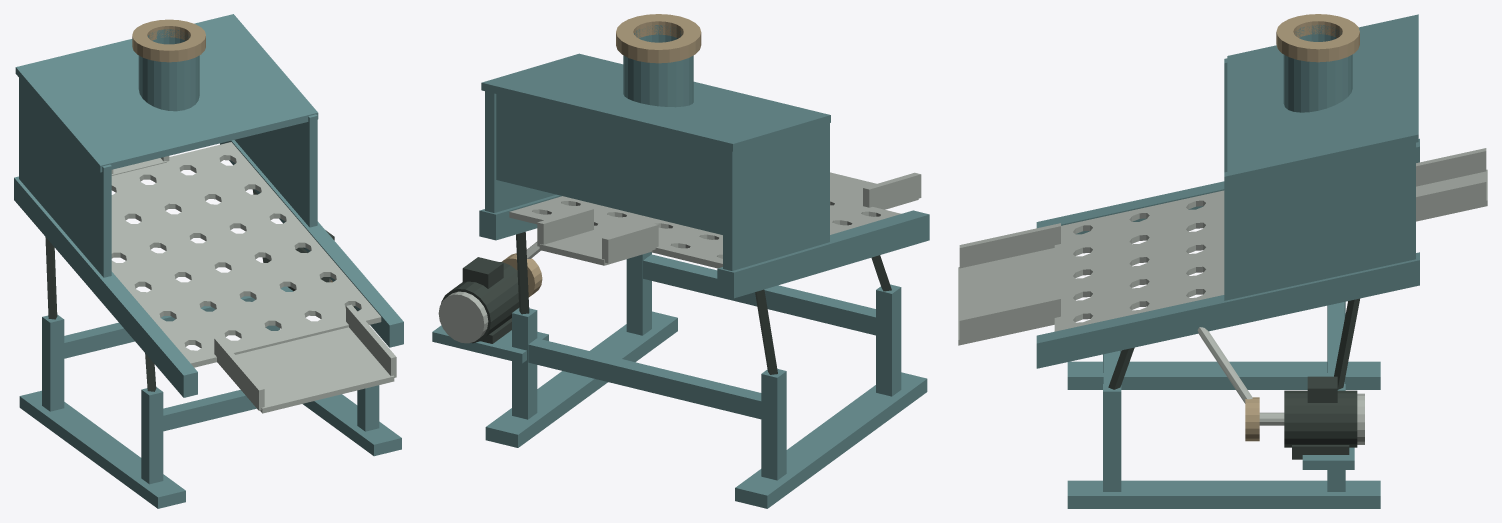
3 renders of one model, left to right at view 1: azimuth 30°, elevation 25°; view 2: azimuth 150°, elevation 25°; view 3: azimuth 270°, elevation 25°, orthographic. The views are drawn at different scales.
Visible parts, largest first — view 1: WholeThirtyHoleInclinedDeck, WholePiercedSlopingRearHoodRoof, WholeRearHalfHoodSide-1, WholeWideFrontOutletFloor, WholeInclinedSideDeckRail-1, WholeLongGroundSkid-1, WholeRearHalfHoodSide1, WholeOpenUprightAspirationNeck, WholeInclinedSideDeckRail1, WholeOpenAspirationRim, WholeLongGroundSkid1, WholeLowFrameLeg-1_-1 (+7 smaller); view 2: WholeRaisedRearHoodPanel, WholePiercedSlopingRearHoodRoof, WholeRearHalfHoodSide-1, WholeLongGroundSkid-1, WholeInclinedSideDeckRail-1, WholeLowTransverseTie1, WholeThirtyHoleInclinedDeck, WholeLongGroundSkid1, WholeLowTransverseTie-1, WholeOpenUprightAspirationNeck, WholeOpenAspirationRim, WholeLowFrameLeg-1_-1 (+17 smaller); view 3: WholeRearHalfHoodSide1, WholePiercedSlopingRearHoodRoof, WholeThirtyHoleInclinedDeck, WholeInclinedSideDeckRail1, WholeLongGroundSkid1, WholeLongGroundSkid-1, WholeWideFrontOutletFloor, WholeOpenUprightAspirationNeck, WholeSideMotorBody, WholeOpenAspirationRim, WholeWideFrontOutletSide1, WholeWideFrontOutletSide-1 (+12 smaller).
Boxes of the visible parts, x1,y1,x2,y2 form: WholeThirtyHoleInclinedDeck: (111,142,381,367); WholePiercedSlopingRearHoodRoof: (15,14,318,172); WholeRearHalfHoodSide-1: (19,78,111,277); WholeWideFrontOutletFloor: (235,327,394,413); WholeInclinedSideDeckRail-1: (14,176,197,397); WholeLongGroundSkid-1: (19,390,185,508); WholeRearHalfHoodSide1: (235,114,317,227); WholeOpenUprightAspirationNeck: (138,29,199,111); WholeInclinedSideDeckRail1: (220,140,403,347); WholeOpenAspirationRim: (132,19,205,62); WholeLongGroundSkid1: (303,394,401,456); WholeLowFrameLeg-1_-1: (141,387,163,484); WholeRaisedRearHoodPanel: (496,94,722,234); WholePiercedSlopingRearHoodRoof: (481,53,830,151); WholeRearHalfHoodSide-1: (723,123,829,270); WholeLongGroundSkid-1: (735,372,927,508); WholeInclinedSideDeckRail-1: (717,210,929,298); WholeLowTransverseTie1: (528,338,761,419); WholeThirtyHoleInclinedDeck: (509,196,901,268); WholeLongGroundSkid1: (485,311,677,447); WholeLowTransverseTie-1: (643,254,875,335); WholeOpenUprightAspirationNeck: (623,25,693,107); WholeOpenAspirationRim: (616,14,701,63); WholeLowFrameLeg-1_-1: (876,284,901,396); WholeRearHalfHoodSide1: (1224,142,1415,300); WholePiercedSlopingRearHoodRoof: (1227,14,1418,183); WholeThirtyHoleInclinedDeck: (1054,190,1224,331); WholeInclinedSideDeckRail1: (1036,252,1419,368); WholeLongGroundSkid1: (1067,480,1380,508); WholeLongGroundSkid-1: (1067,361,1380,389); WholeWideFrontOutletFloor: (958,248,1054,345); WholeOpenUprightAspirationNeck: (1283,24,1352,112); WholeSideMotorBody: (1284,390,1357,447); WholeOpenAspirationRim: (1276,14,1359,62); WholeWideFrontOutletSide1: (959,296,1060,343); WholeWideFrontOutletSide-1: (959,223,1060,268).
Bounding box in the file's own units: 1.51 × 1.74 × 2.03.
